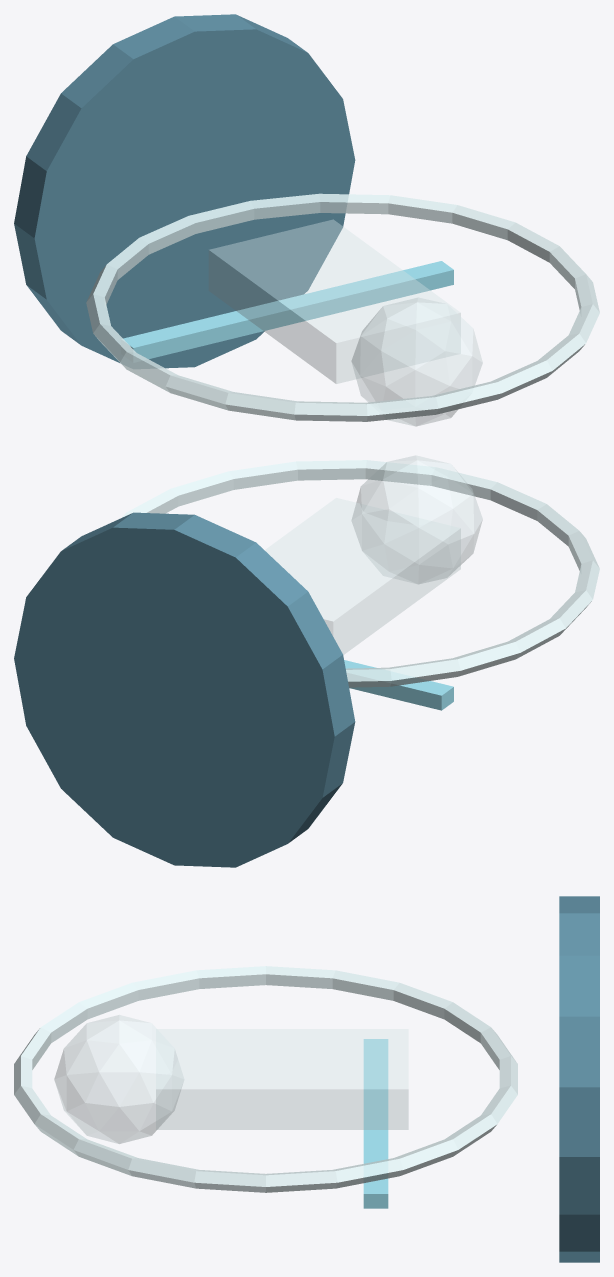
The model's file is 07_support_npc_aura.glb.
3 renders of one model, top to bottom at view 1: azimuth 30°, elevation 25°; view 2: azimuth 150°, elevation 25°; view 3: azimuth 270°, elevation 25°, orthographic.
Visible parts, largest first — view 1: npc_support_base, support_holo_body, ally_command_ring, support_holo_head, assist_beam_marker; view 2: npc_support_base, support_holo_body, ally_command_ring, support_holo_head, assist_beam_marker; view 3: support_holo_body, ally_command_ring, npc_support_base, support_holo_head, assist_beam_marker.
Boxes of the visible parts, left/top/right/bottom form: npc_support_base: left=14, top=14, right=355, bottom=368; support_holo_body: left=209, top=219, right=460, bottom=383; ally_command_ring: left=86, top=193, right=599, bottom=421; support_holo_head: left=351, top=297, right=482, bottom=426; assist_beam_marker: left=121, top=261, right=453, bottom=362; npc_support_base: left=14, top=512, right=355, bottom=867; support_holo_body: left=265, top=498, right=460, bottom=654; ally_command_ring: left=121, top=460, right=599, bottom=687; support_holo_head: left=352, top=455, right=482, bottom=583; assist_beam_marker: left=344, top=660, right=453, bottom=710; support_holo_body: left=156, top=1029, right=408, bottom=1129; ally_command_ring: left=14, top=966, right=517, bottom=1192; npc_support_base: left=559, top=896, right=599, bottom=1262; support_holo_head: left=54, top=1015, right=183, bottom=1143; assist_beam_marker: left=363, top=1039, right=388, bottom=1208.
Bounding box in the file's own units: 1.25 × 0.9 × 1.44.
